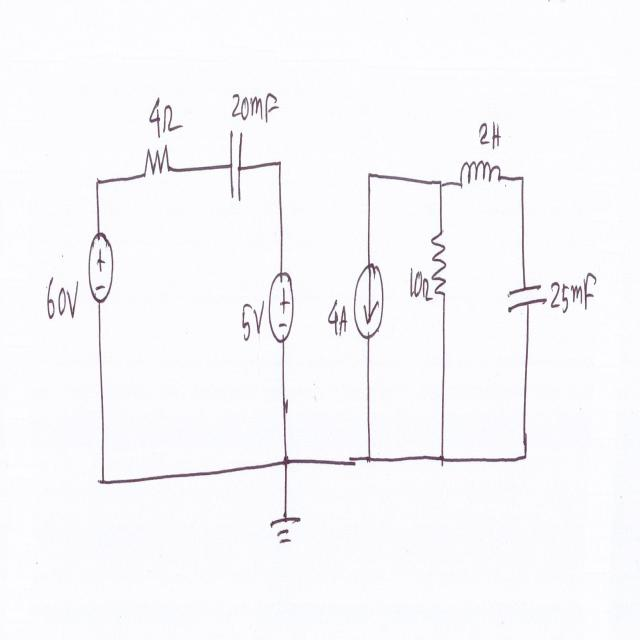capacitor: (503, 276, 548, 322), (226, 122, 247, 208)
current_source: (352, 255, 388, 348)
ground: (268, 513, 304, 554)
inductor: (457, 153, 503, 198)
resistor: (428, 218, 452, 302), (142, 141, 172, 197)
voltage_source: (268, 264, 296, 348), (86, 229, 115, 309)
